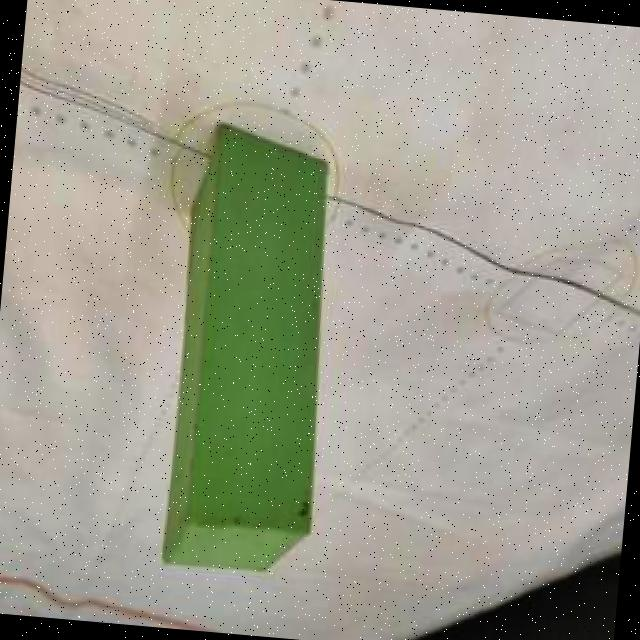greenbox: (156, 122, 344, 577)
